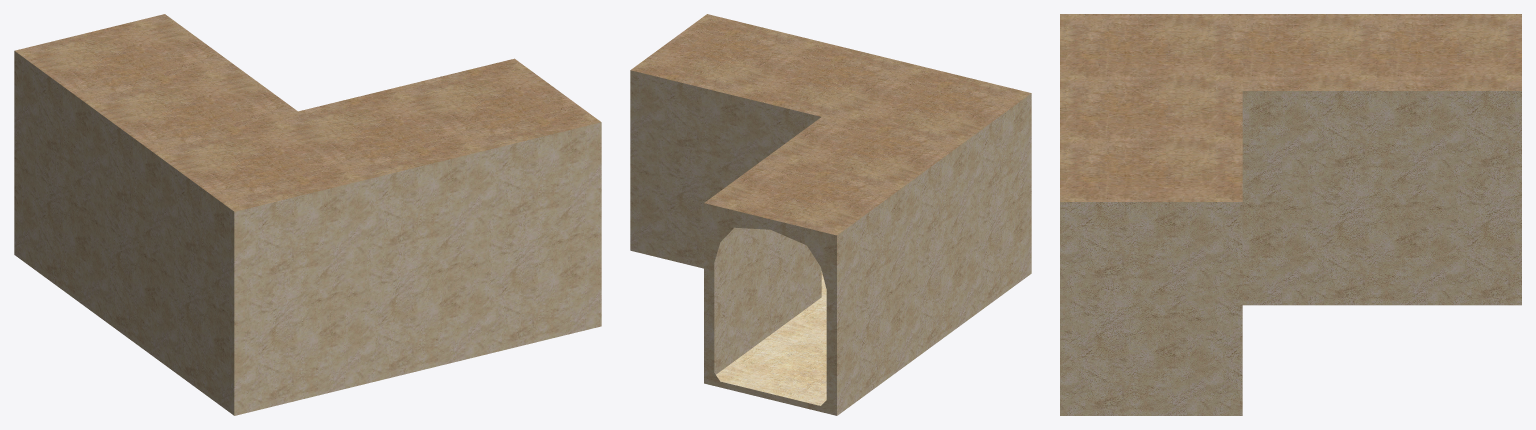
File: thm_tato_block_bldg_64x16_s01_r2_spawnb_mesh_spawnb.fbx
3 renders of one model, left to right at view 1: azimuth 30°, elevation 25°; view 2: azimuth 150°, elevation 25°; view 3: azimuth 270°, elevation 25°, orthographic. The views are drawn at different scales.
Visible parts, largest first — view 1: mesh_node; view 2: mesh_node; view 3: mesh_node.
Boxes of the visible parts, x1=… form: mesh_node: x1=14, y1=14, x2=601, y2=415; mesh_node: x1=630, y1=14, x2=1031, y2=415; mesh_node: x1=1060, y1=14, x2=1521, y2=415.
Size of the model in its own units: 6.11 by 3.25 by 6.35.
